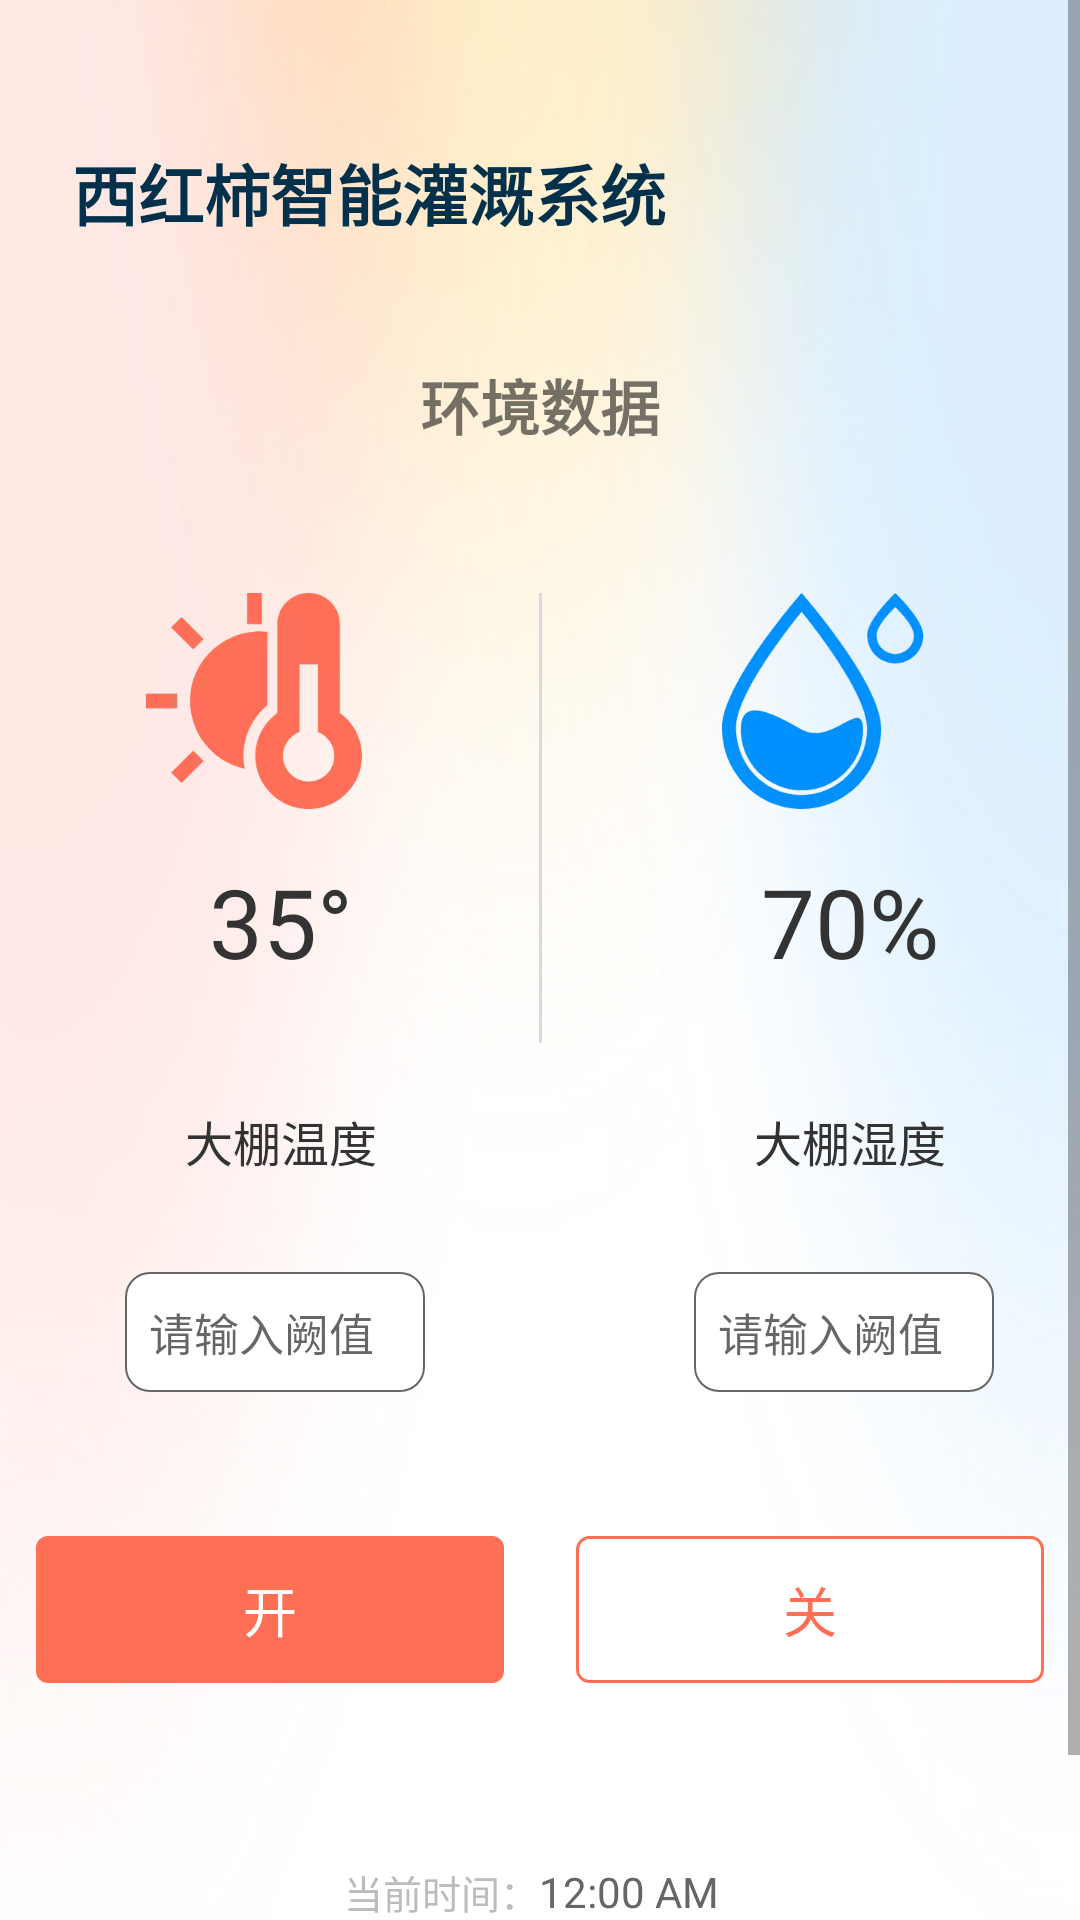

Icon bounding boxes for this 1080*1920 phone screenshot, format (x1, y1, x2, y2):
humidity: (722, 593, 924, 809)
temperature: (146, 593, 362, 809)
